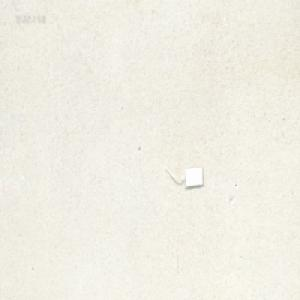LuggageTag: (163, 163, 204, 189)
